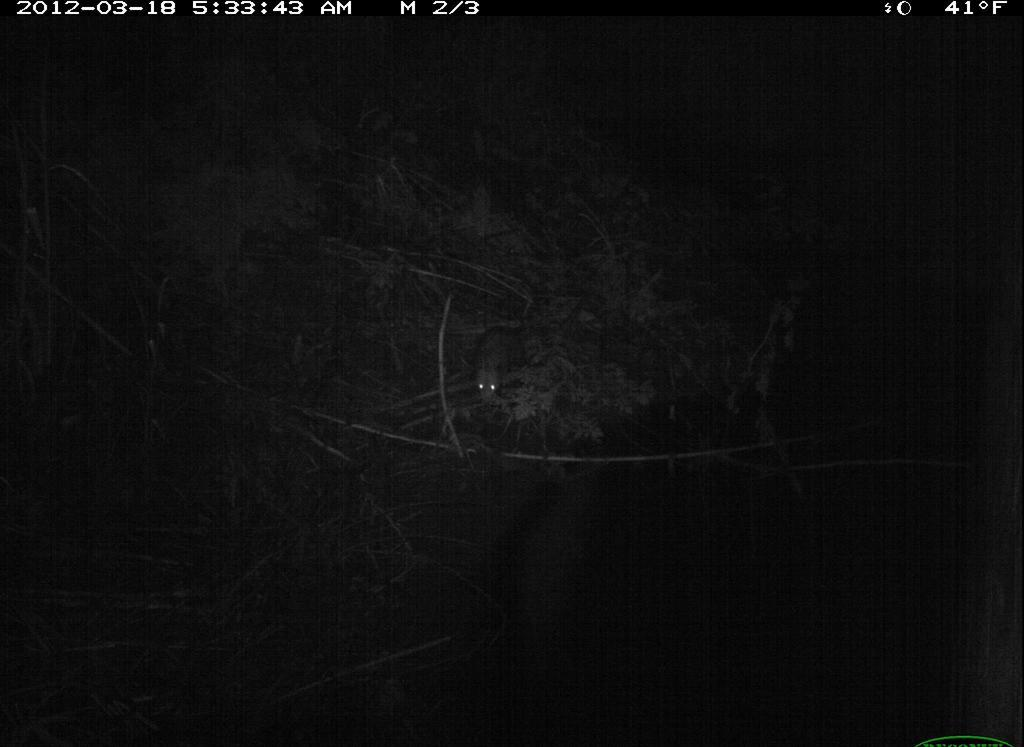opossum: (454, 313, 568, 411)
